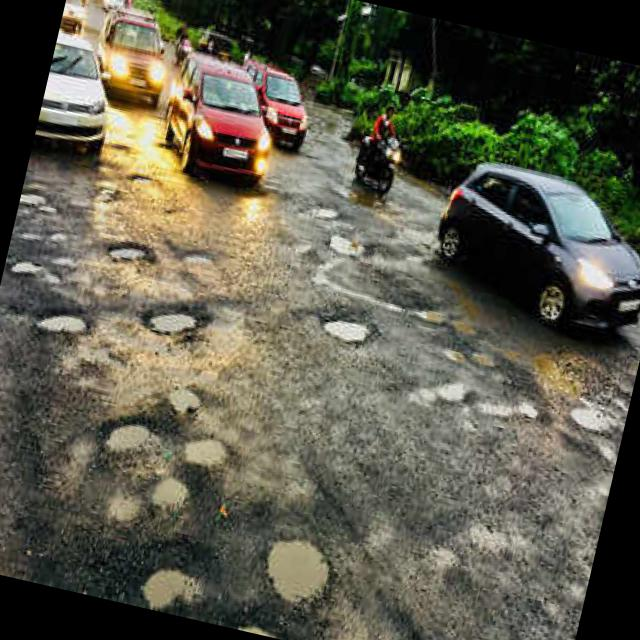Potholes: (70, 371, 254, 549), (481, 306, 640, 467), (249, 504, 360, 628), (104, 558, 214, 622), (17, 288, 111, 362), (294, 195, 374, 272), (134, 288, 212, 362), (310, 295, 384, 363), (91, 224, 149, 280)
